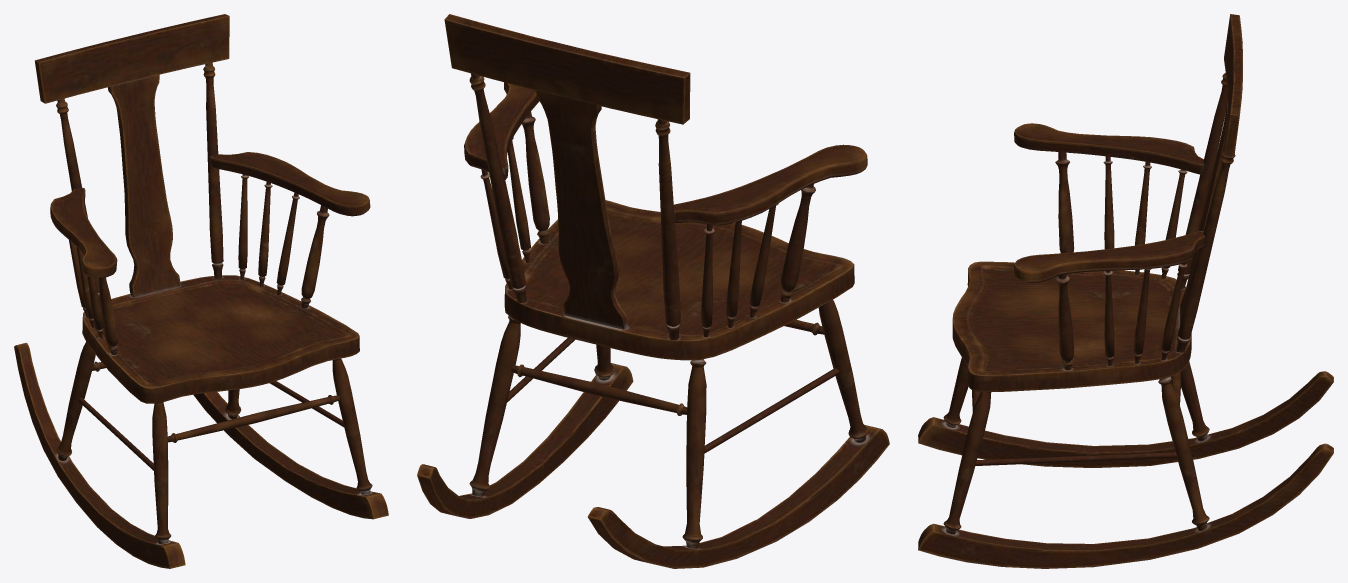
Rendered from Rockingchair_01.glb.
3 views of the same model, side by side, from view 1: azimuth 30°, elevation 25°; view 2: azimuth 150°, elevation 25°; view 3: azimuth 270°, elevation 25° (orthographic). The views are drawn at different scales.
Visible parts, largest first — view 1: Rockingchair_01; view 2: Rockingchair_01; view 3: Rockingchair_01.
Boxes of the visible parts, <box> form: Rockingchair_01: <box>14,14,388,568</box>; Rockingchair_01: <box>417,14,889,568</box>; Rockingchair_01: <box>918,14,1333,568</box>.
Bounding box in the file's own units: 0.7081 × 0.9949 × 0.8337.
Materials: 1 (1 with a texture image).
